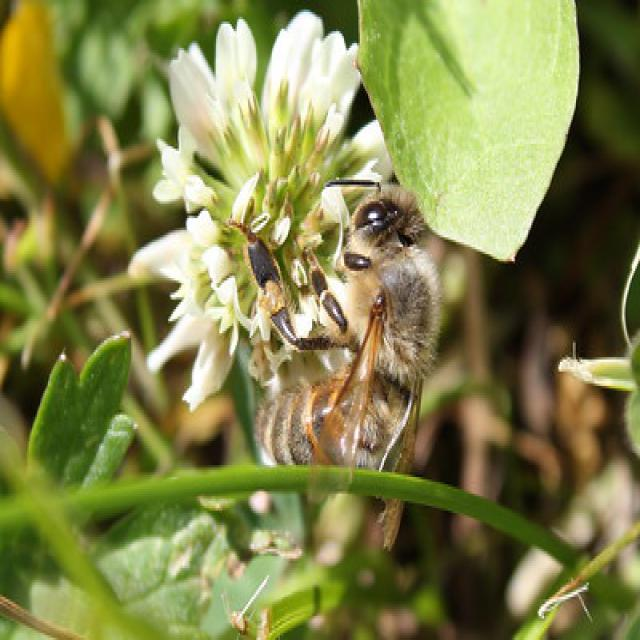Abeille: (236, 162, 447, 524)
